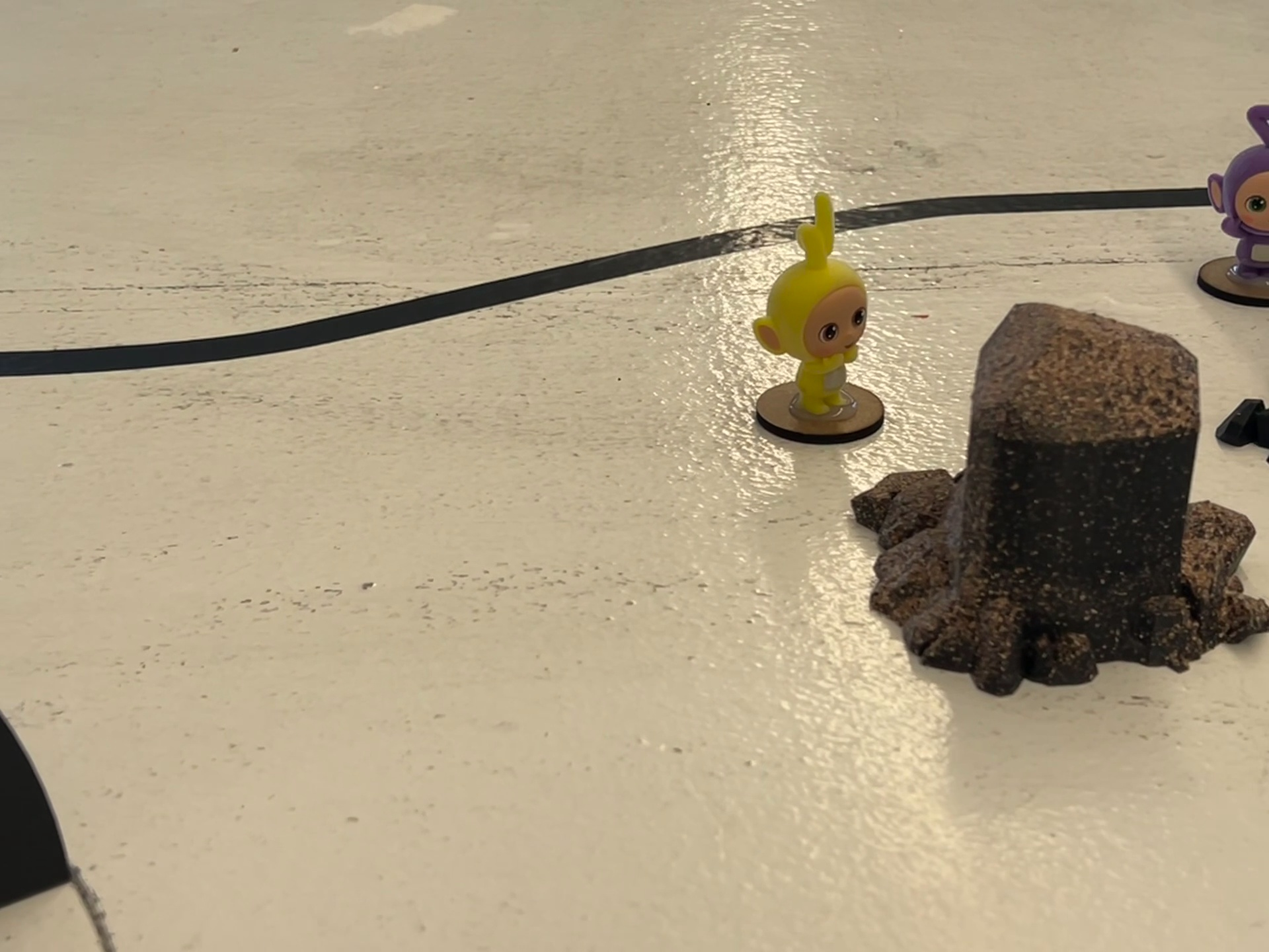teletubby: (752, 193, 866, 418), (1208, 104, 1268, 280)
